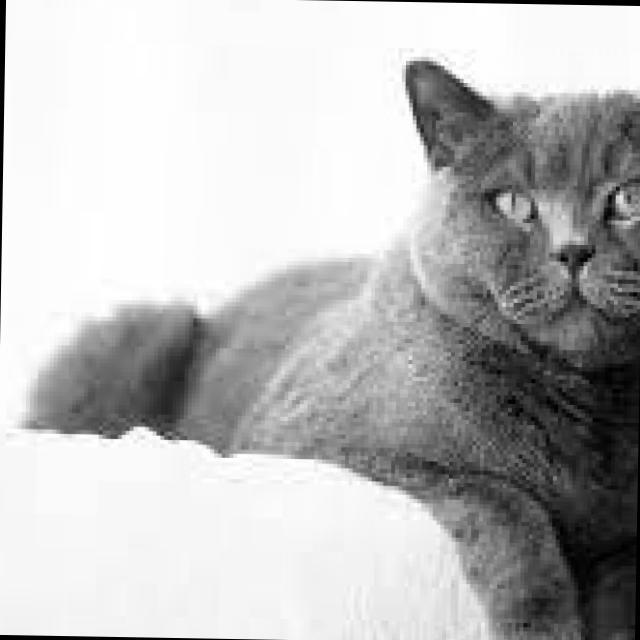british: (302, 0, 640, 413)
